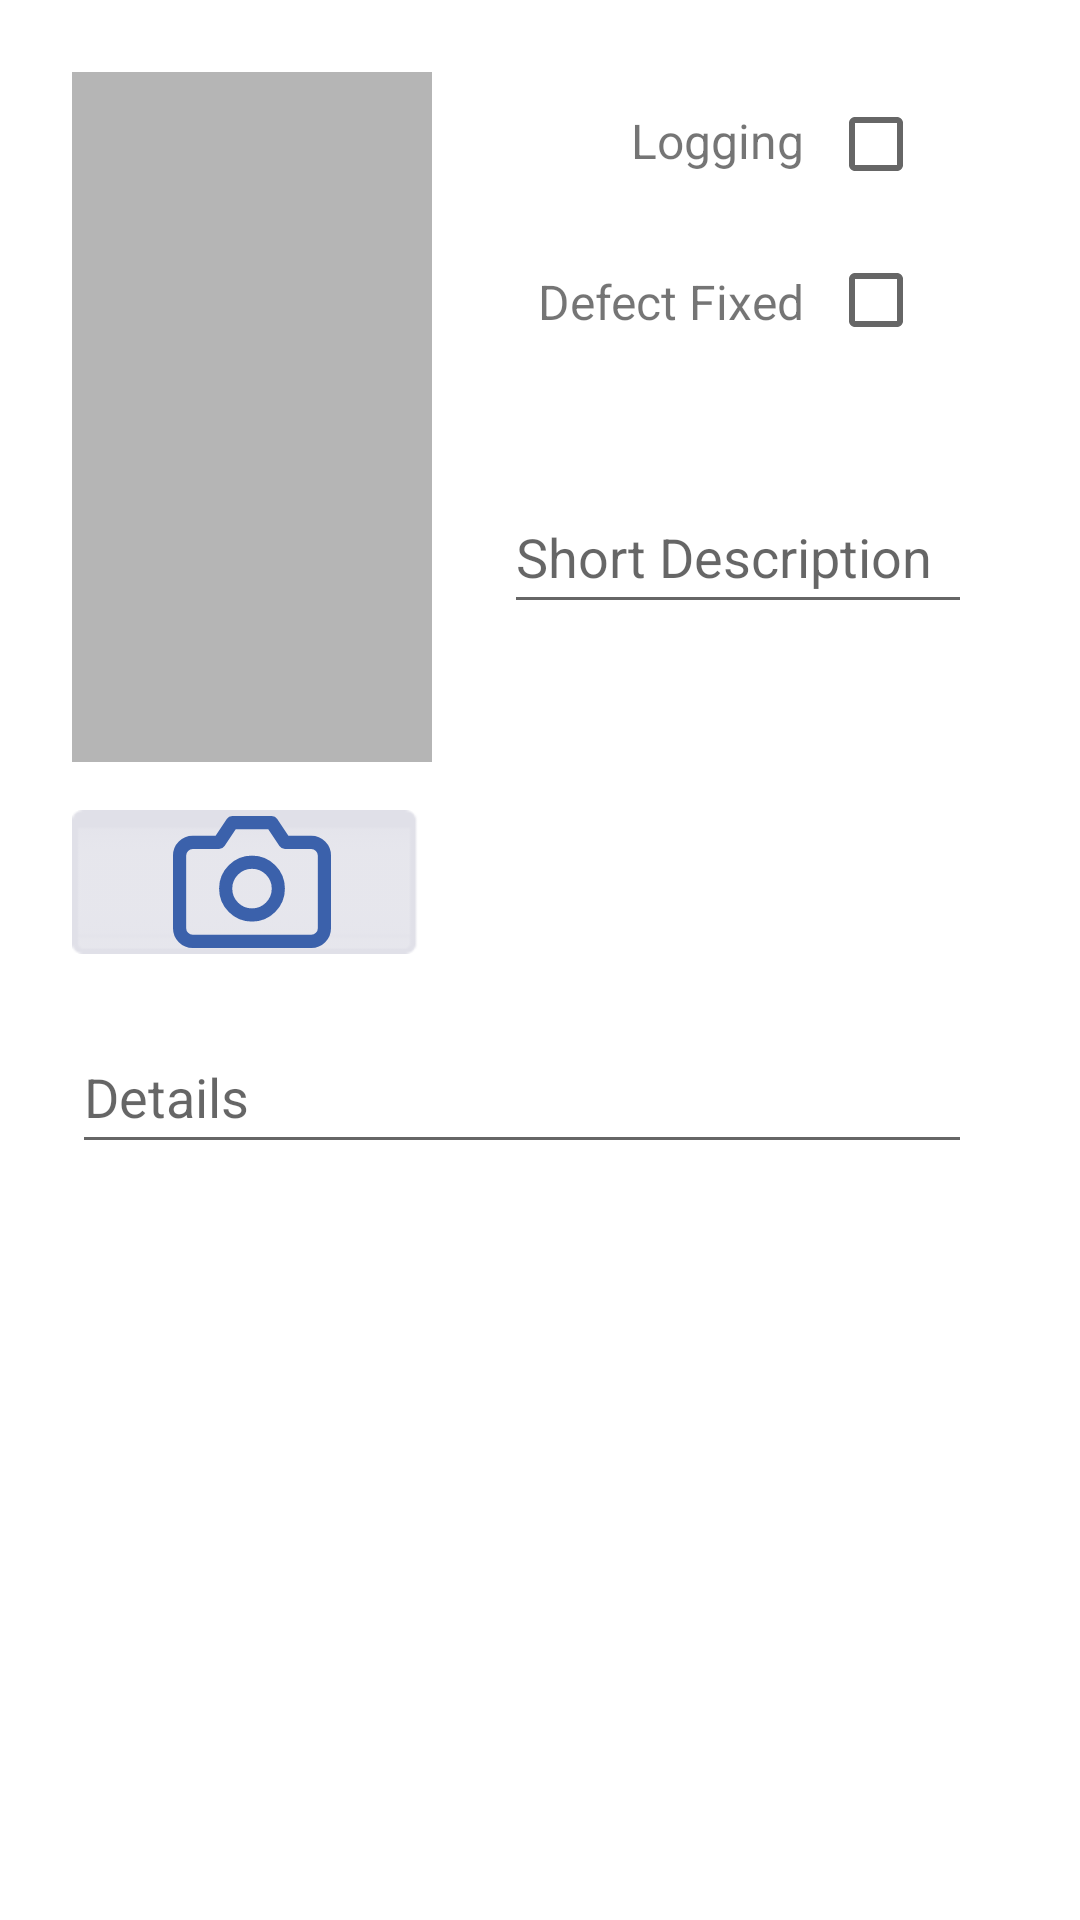

Where icons sit on this 1080 × 1920 app screen, as rect(x1, y1, x2, y2):
camera: rect(72, 810, 415, 954)
